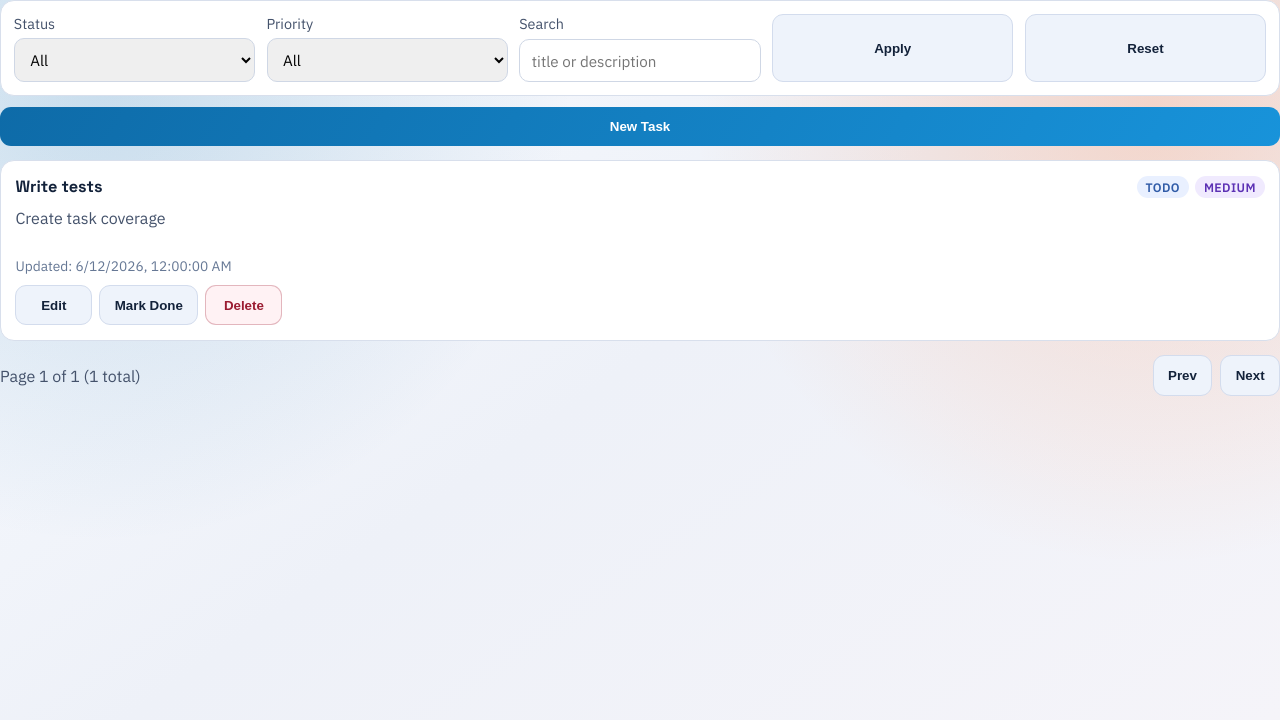
Test: TasksPage › shows validation when submitting an empty new task form
The width and height of the screenshot is (1280, 720).
Check: the heading "Write tests" is shown, box [15,176,102,197]
Click the button "New Task" at (640, 127), box [0,107,1279,146]
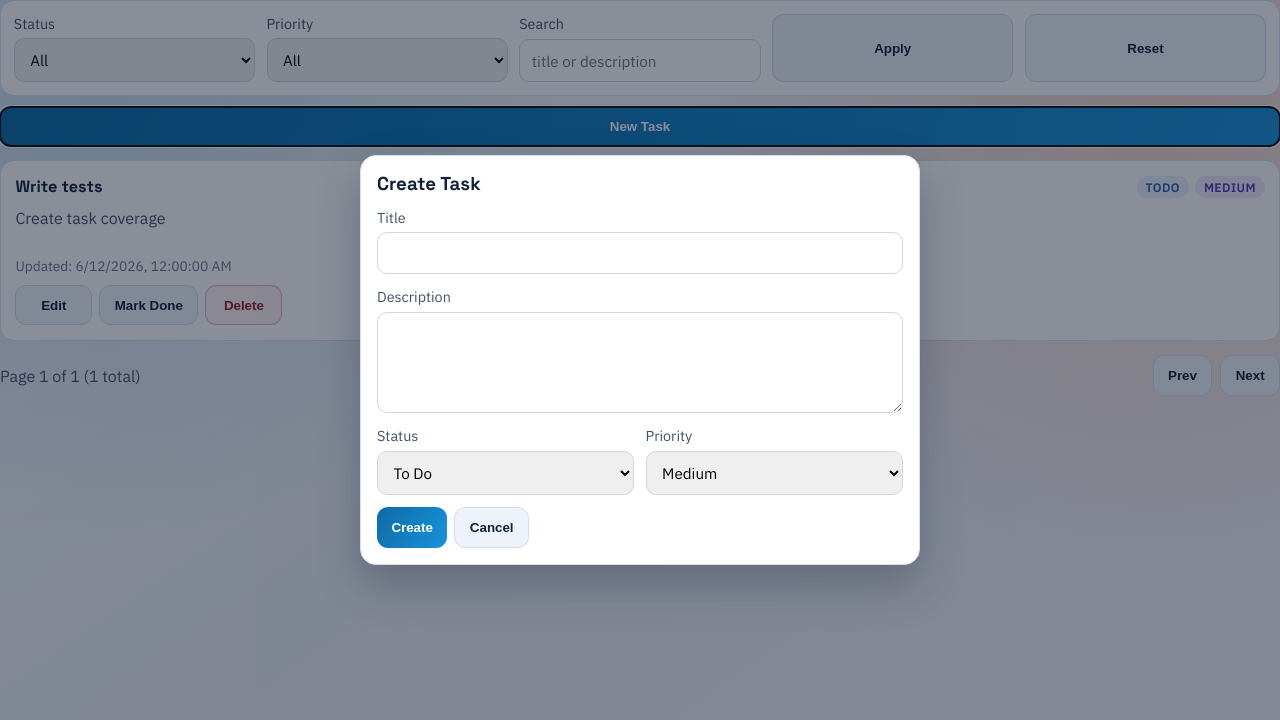
Click the button "Create" at (412, 528), box [377,507,447,548]
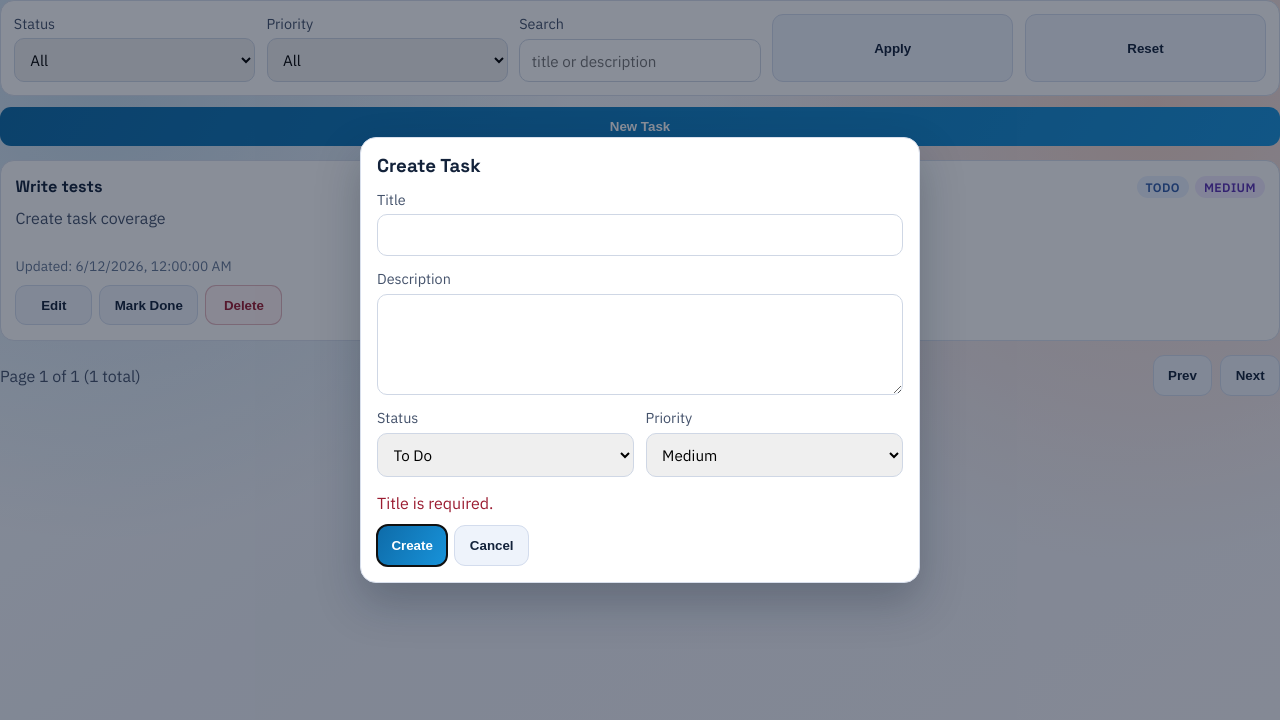
Check: the text "Title is required." is shown, box [377,493,493,513]
